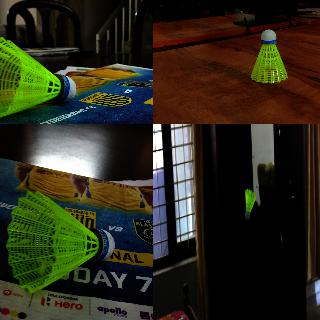shuttlecock: (6, 191, 114, 293), (0, 36, 76, 119), (252, 28, 286, 82), (244, 188, 256, 220)
